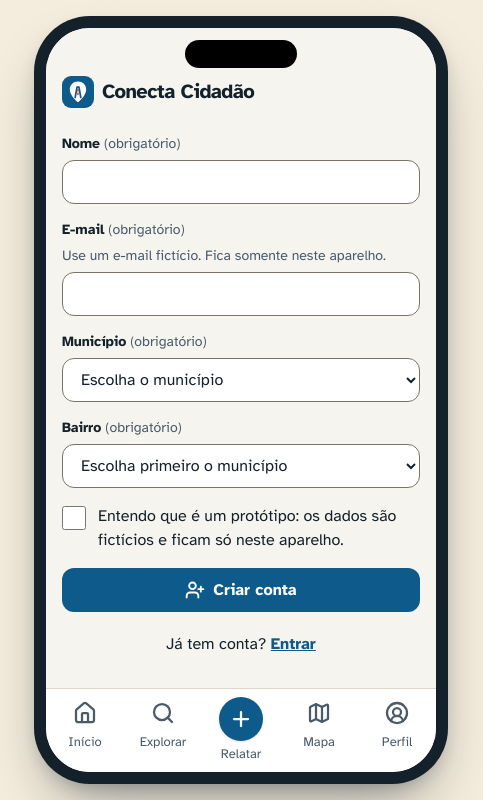
Test: cadastro › mostra todos os erros ao enviar vazio, cada um ligado ao seu campo
The image size is (483, 800).
(page scrolled)
Click the button "Criar conta" at (241, 590), box [62,568,420,612]
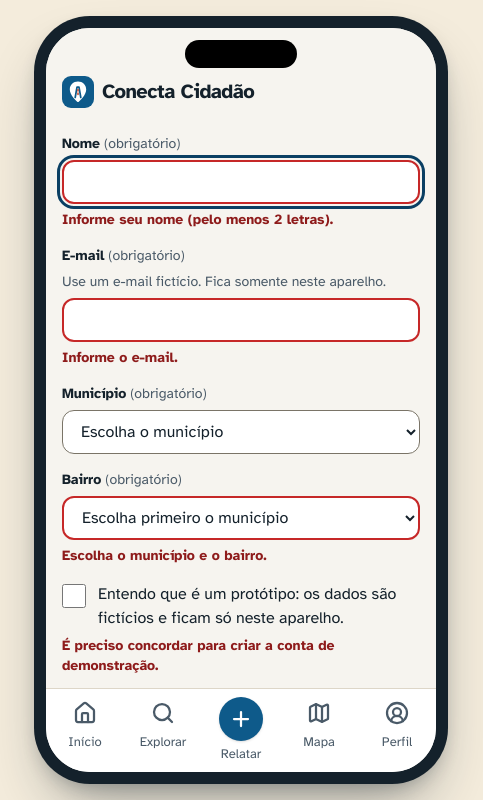
Now the text "Informe seu nome (pelo menos 2 letras)." is shown, box [62,211,333,228]
Now the text "Informe o e-mail." is shown, box [62,349,178,366]
Now the text "Escolha o município e o bairro." is shown, box [62,547,267,564]
